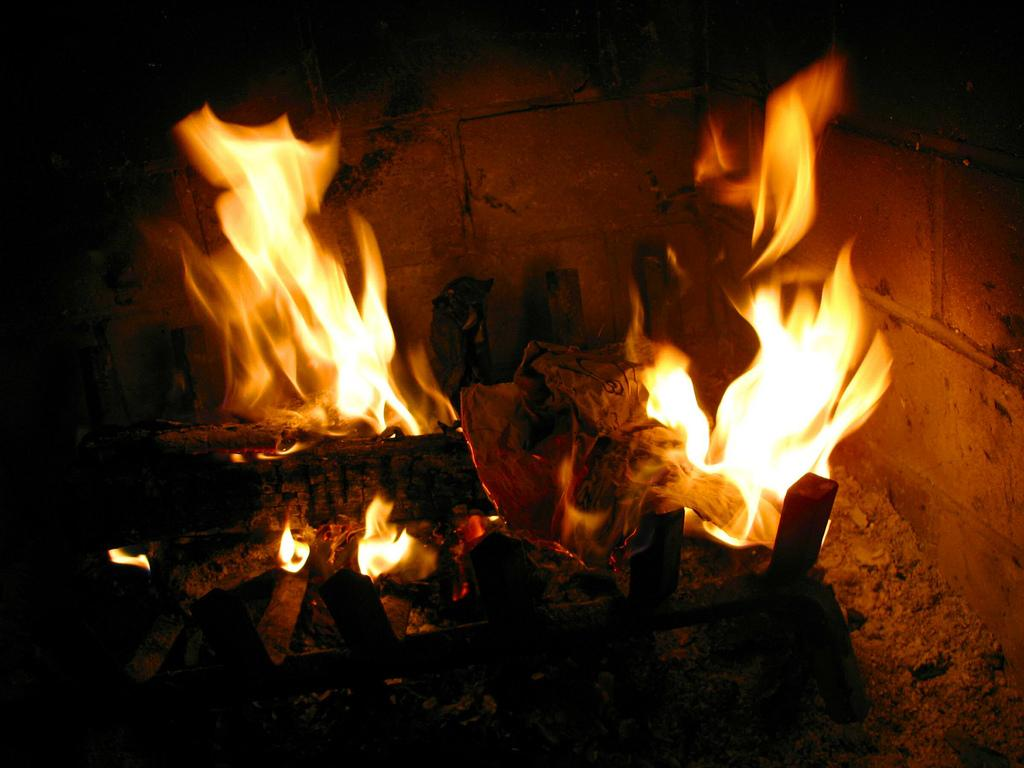fire: (186, 132, 410, 400), (700, 282, 868, 510), (732, 96, 814, 244)
